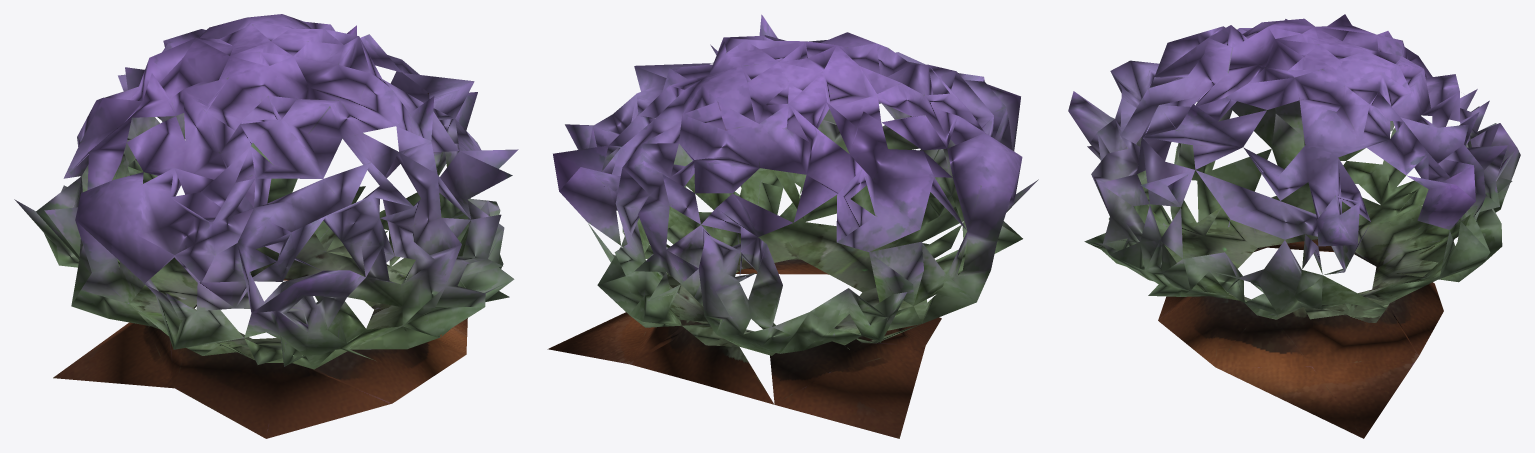
File: lavender2.glb
3 renders of one model, left to right at view 1: azimuth 30°, elevation 25°; view 2: azimuth 150°, elevation 25°; view 3: azimuth 270°, elevation 25°, orthographic. The views are drawn at different scales.
Visible parts, largest first — view 1: geometry_0; view 2: geometry_0; view 3: geometry_0.
Part boxes in pixels (left/top/right/bottom): geometry_0: left=14, top=14, right=518, bottom=438; geometry_0: left=547, top=14, right=1038, bottom=438; geometry_0: left=1068, top=14, right=1520, bottom=438.
Bounding box in the file's own units: 0.7582 × 0.565 × 0.7634.
1 material, 1 textured.
